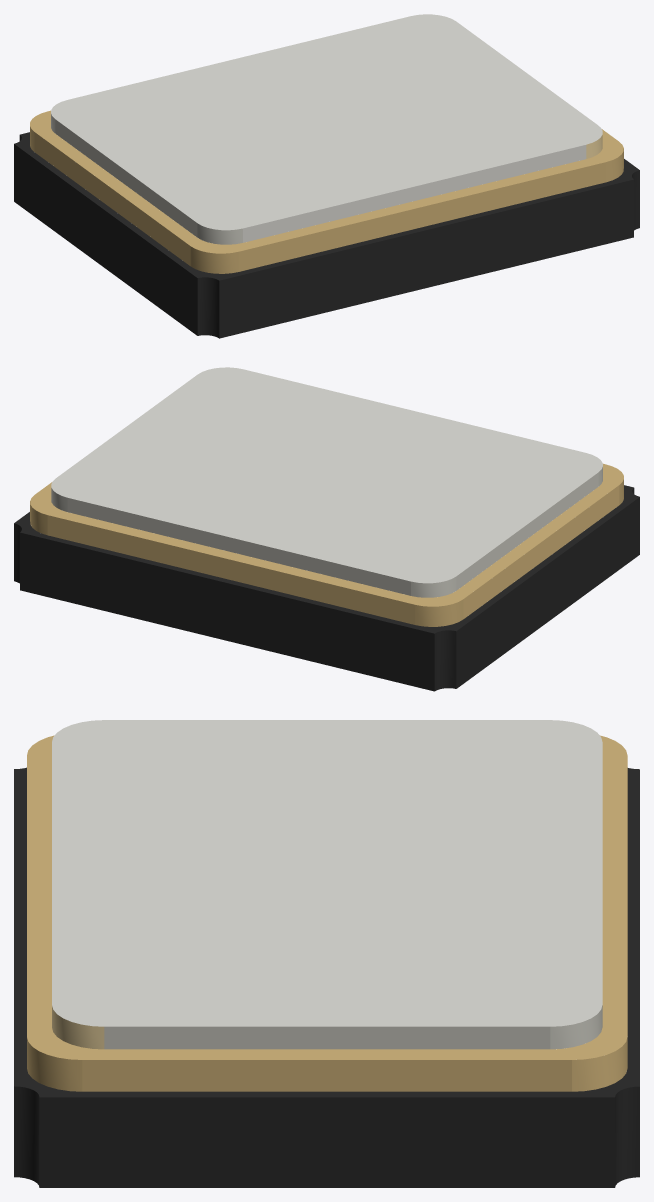
File: xtal.glb
The picture shows the model from 3 angles, top to bottom: view 1: azimuth 30°, elevation 25°; view 2: azimuth 150°, elevation 25°; view 3: azimuth 270°, elevation 25°; orthographic projection. The views are drawn at different scales.
Bounding box in the file's own units: 3.2 × 0.64 × 2.5.
